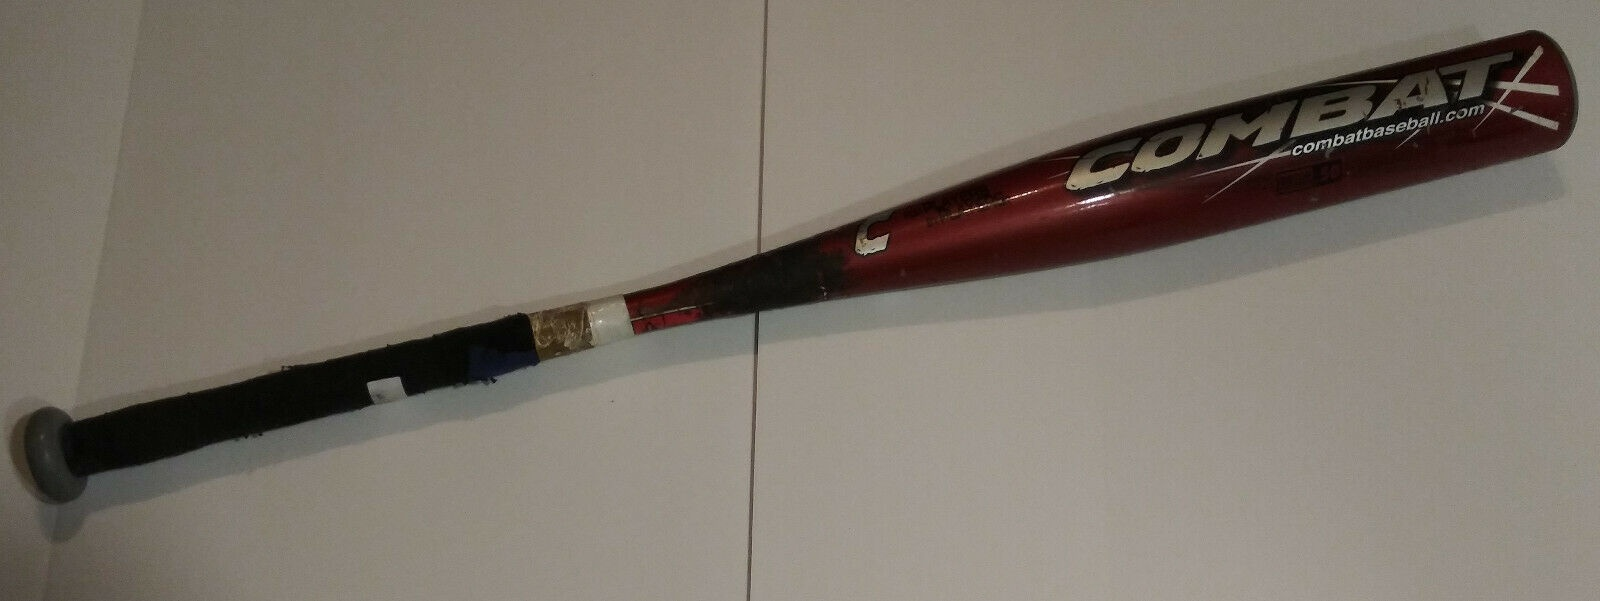bita: (30, 45, 1561, 488)
